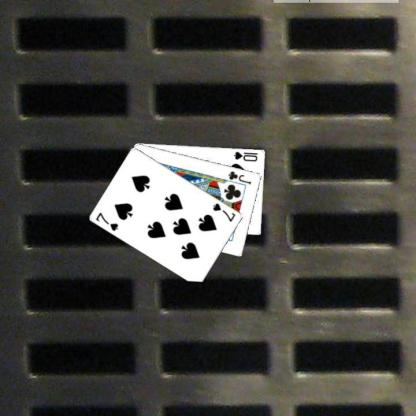10S: (231, 148, 259, 162)
7S: (210, 201, 237, 223), (93, 210, 120, 232)
JC: (226, 168, 252, 186)
